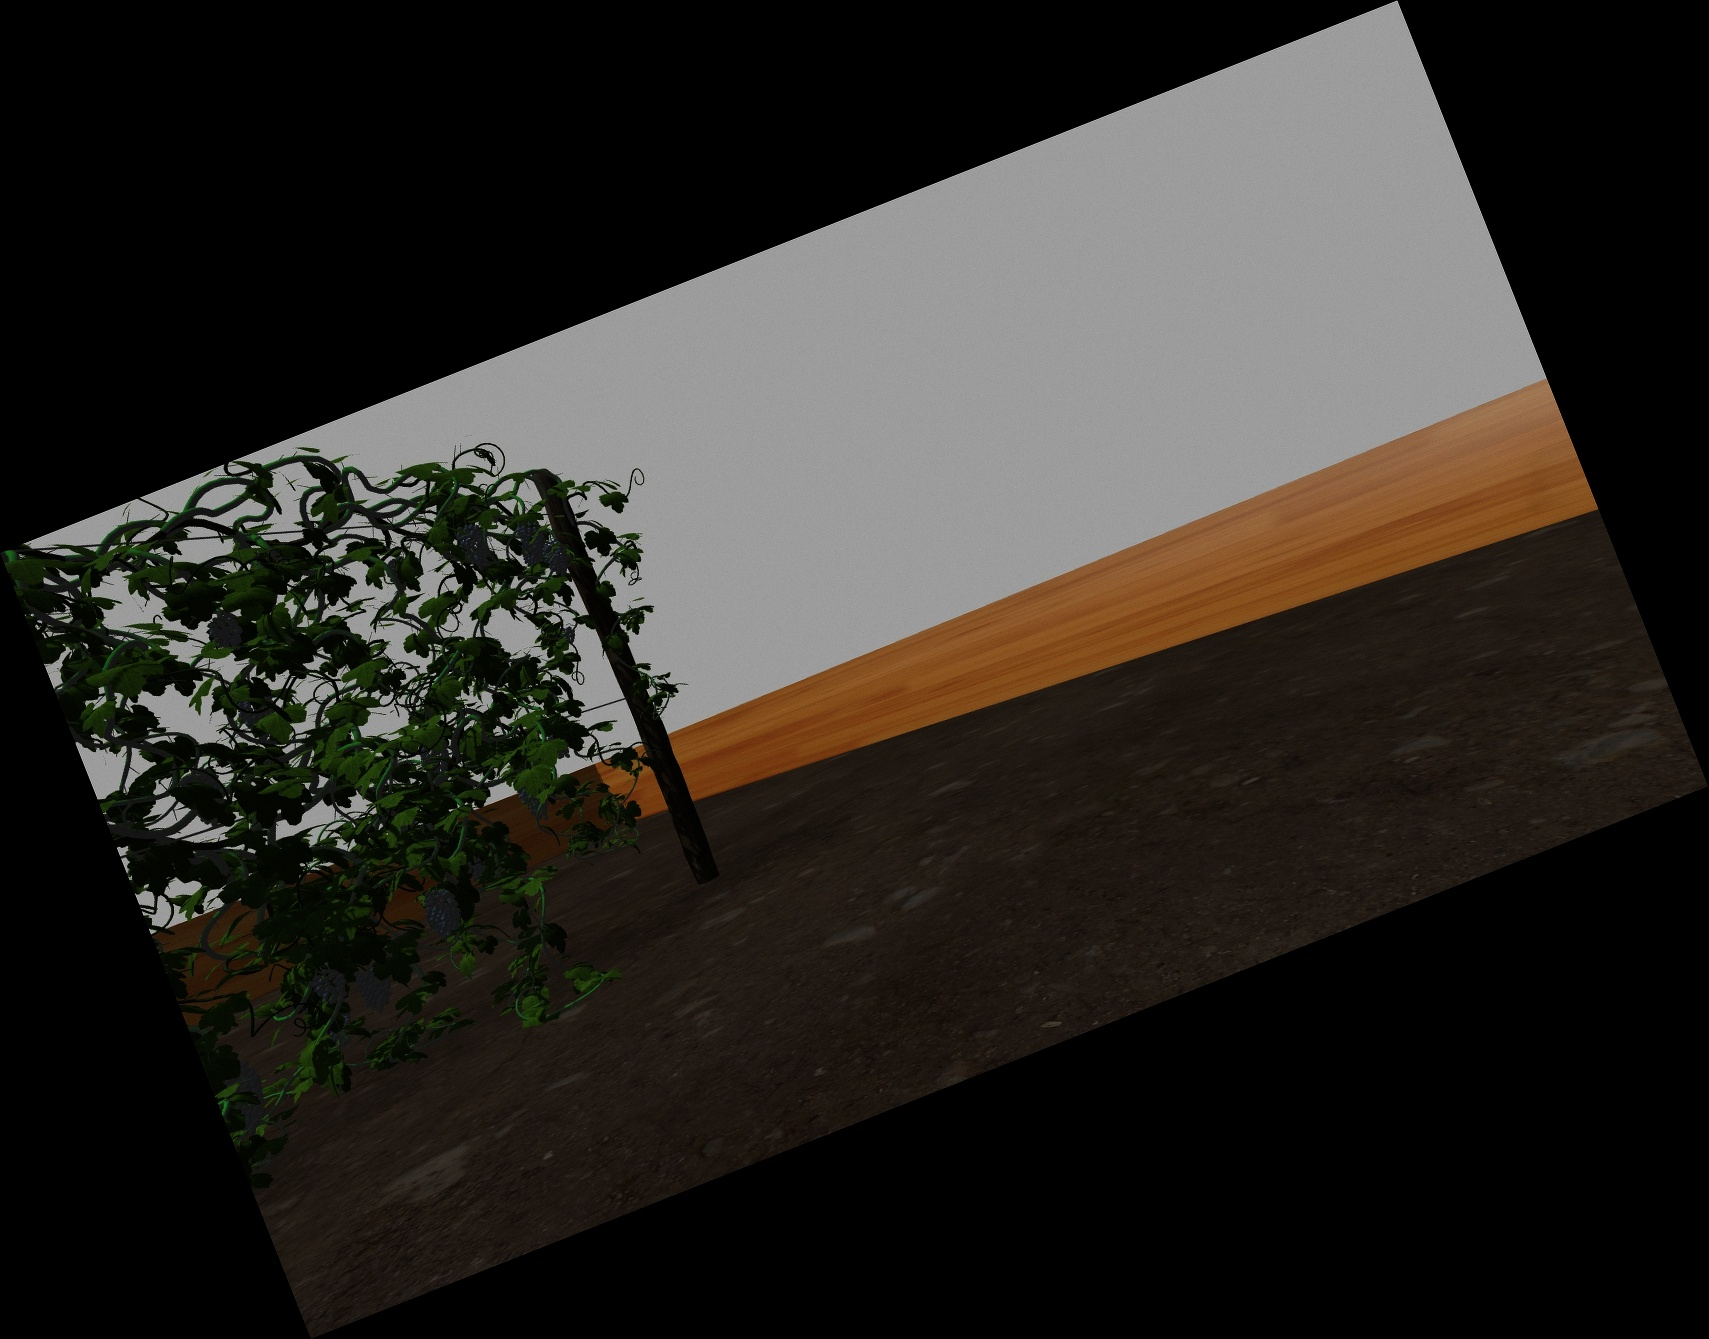grape: (230, 1063, 266, 1132), (427, 889, 461, 942), (357, 966, 393, 1012), (461, 523, 488, 570), (519, 522, 547, 563), (314, 969, 347, 1003), (209, 615, 241, 649), (523, 787, 548, 821), (547, 543, 567, 574)
